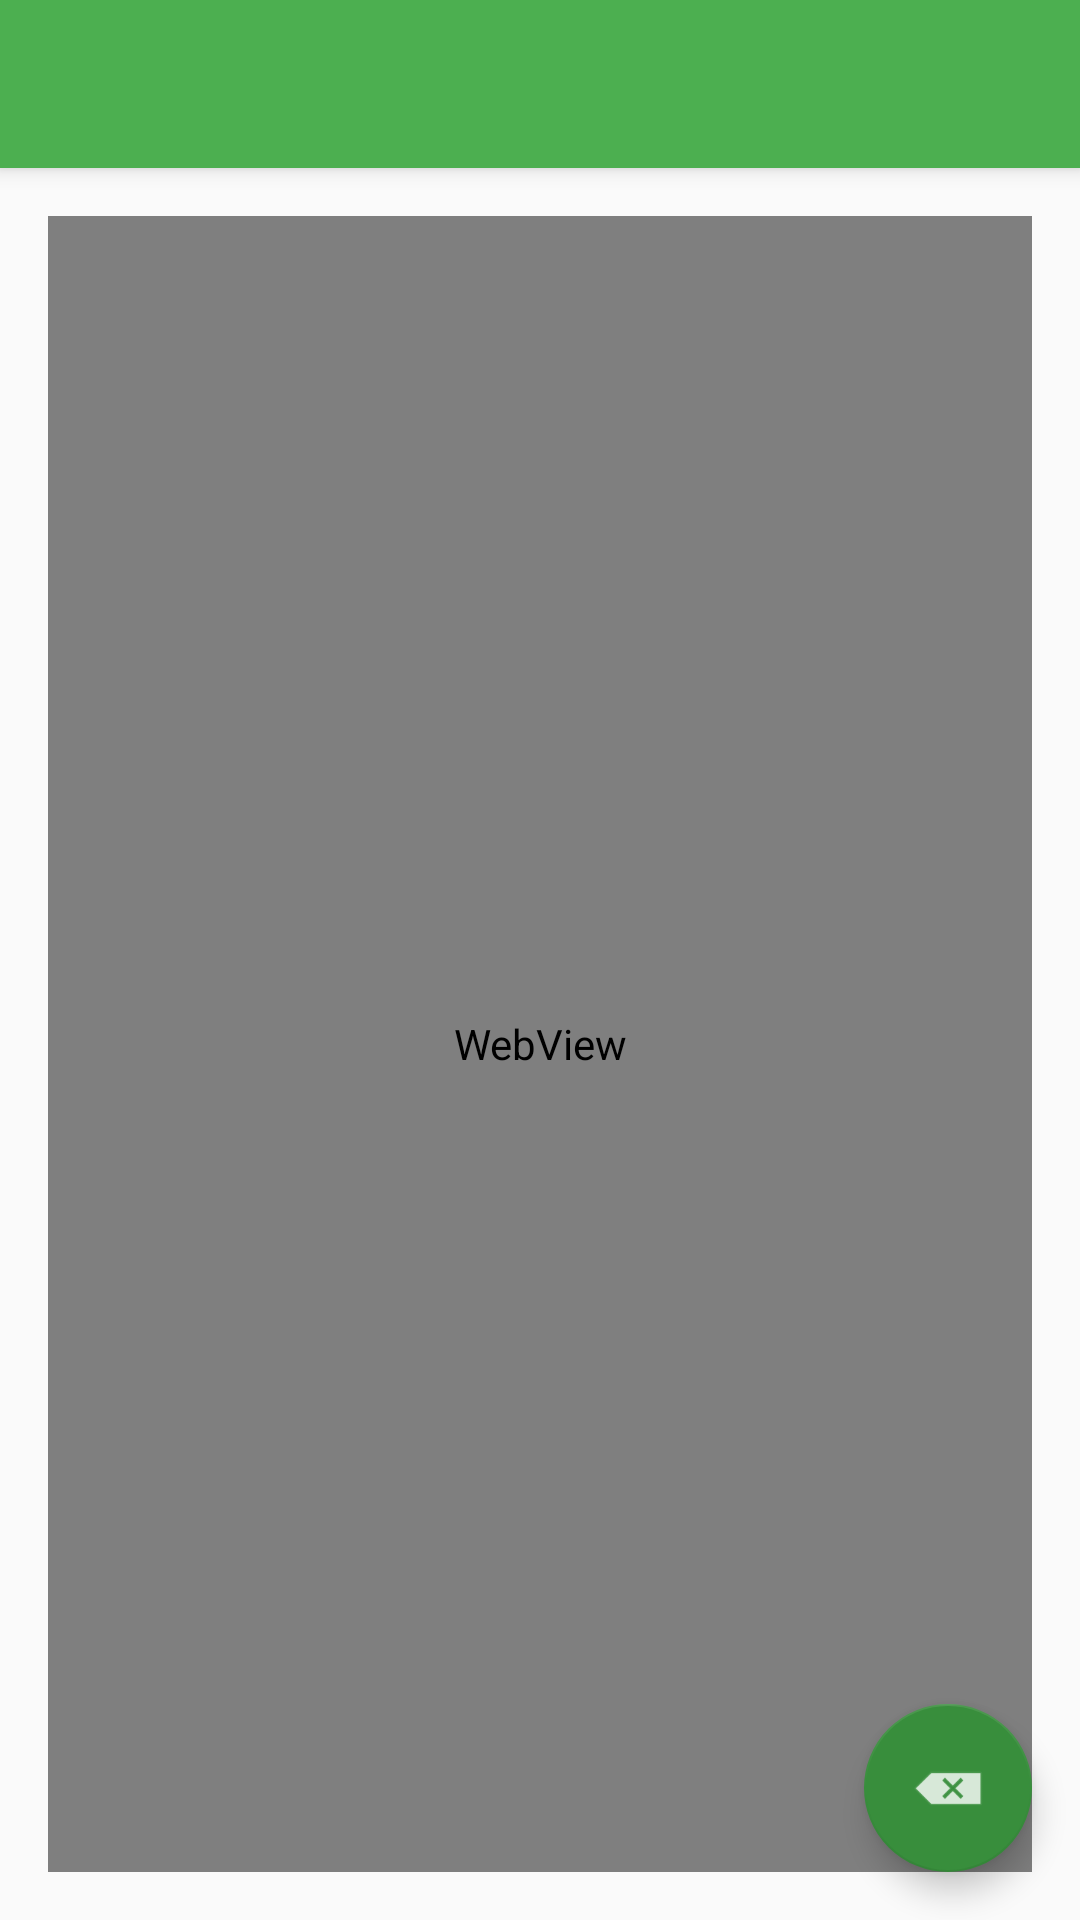

Point at icon controls on the screen. Image size 1080px×1920px, points as (x=x, y=y).
delete: (x=948, y=1788)
